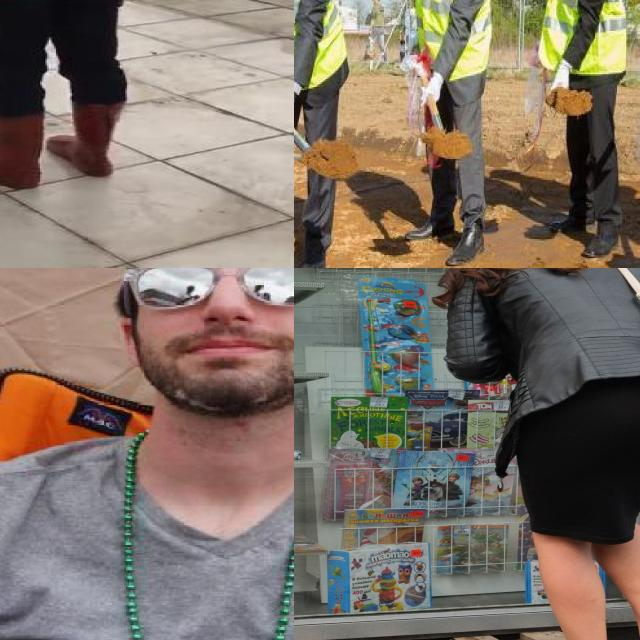boots: (49, 101, 127, 179), (394, 187, 463, 255), (433, 202, 499, 268), (543, 178, 607, 239), (574, 206, 634, 267), (0, 111, 43, 190), (294, 218, 340, 268)
face_nomask: (133, 268, 294, 380)
glasses: (122, 268, 294, 309)
person: (0, 268, 294, 640), (0, 0, 193, 197), (381, 0, 504, 268), (525, 0, 640, 265), (294, 0, 350, 268)
vest: (403, 0, 507, 114), (529, 0, 640, 106), (294, 0, 358, 116)
